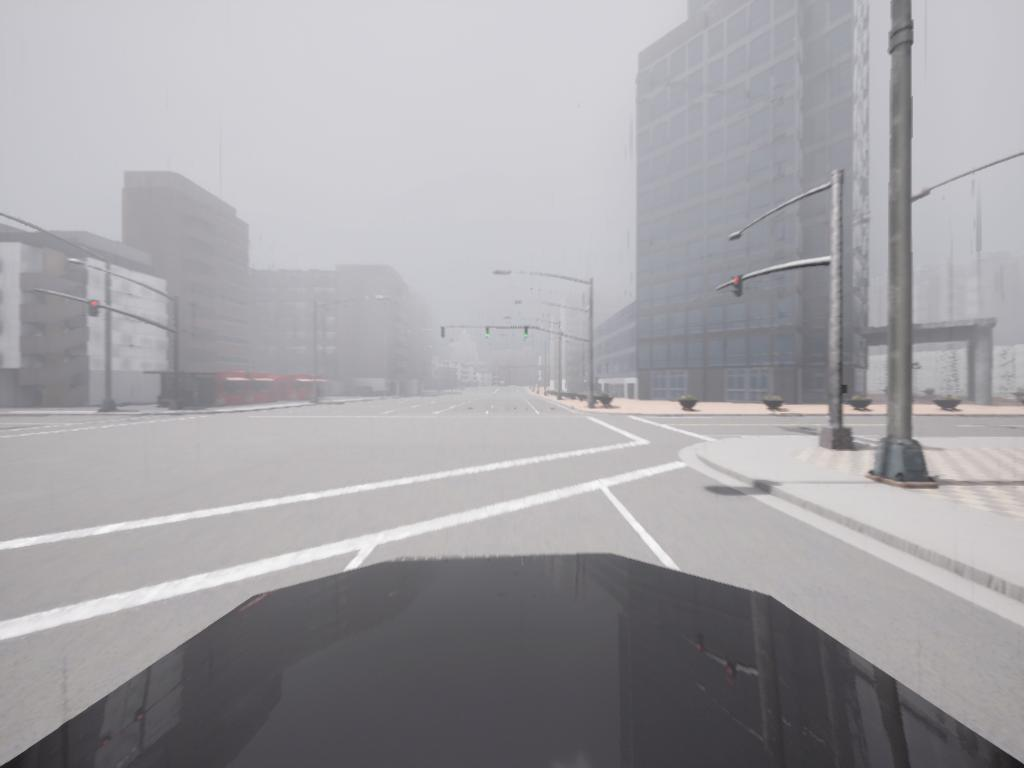traffic_light: (732, 272, 743, 304), (88, 297, 100, 321), (522, 325, 532, 341), (484, 324, 493, 341), (440, 324, 447, 341)
